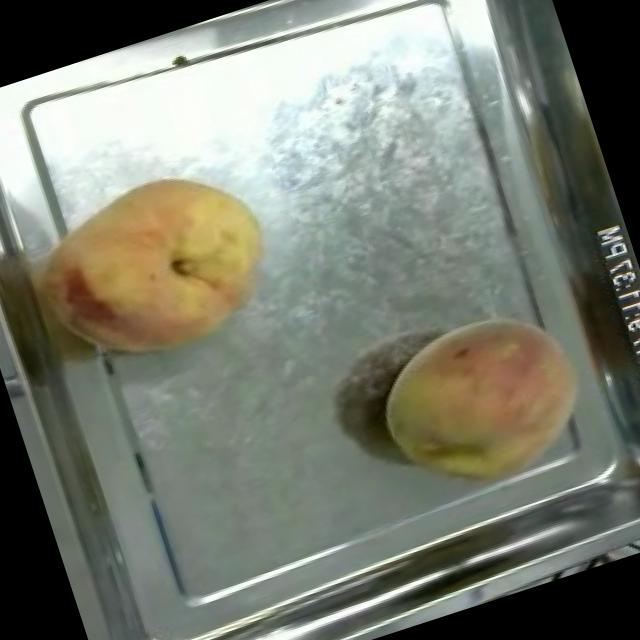Fruit: (17, 142, 299, 392), (351, 283, 613, 525)
